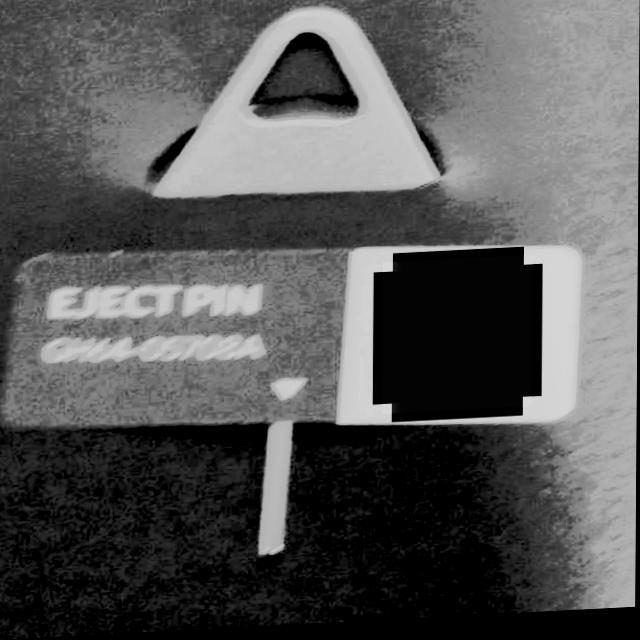qr_code: (382, 260, 533, 418)
